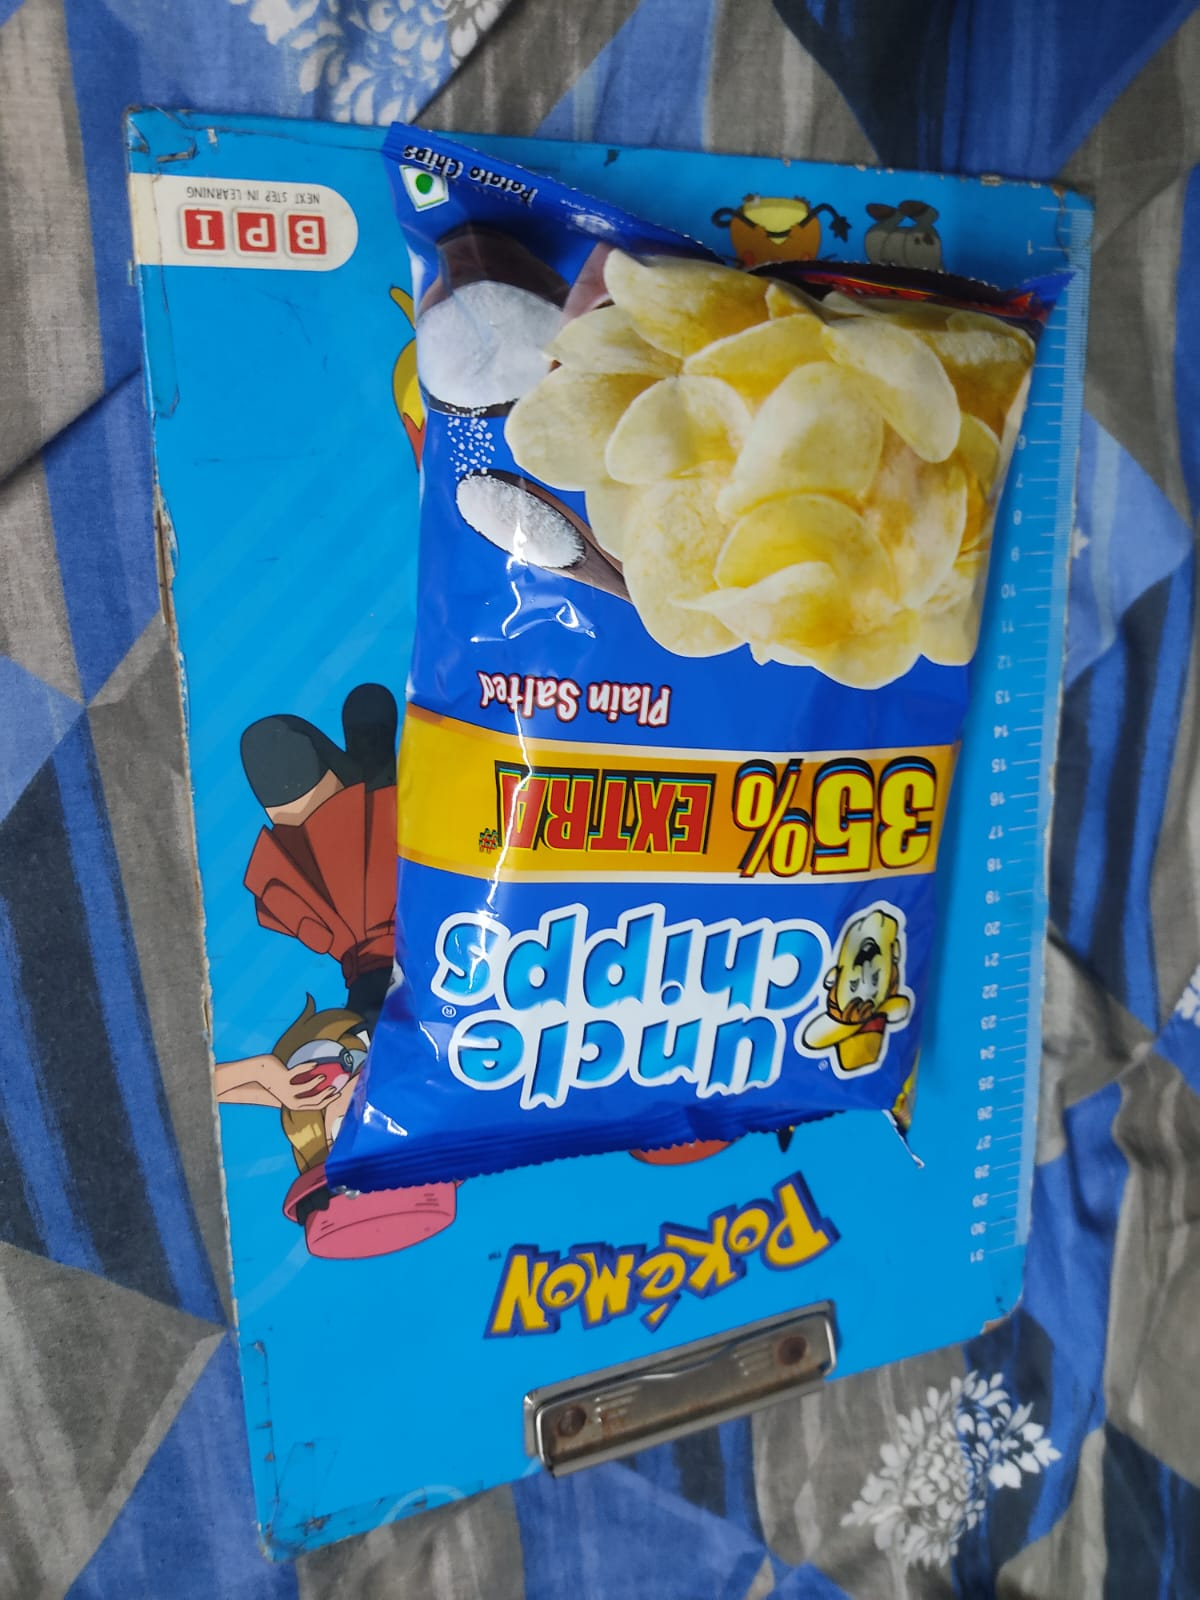020_UncleChips: (383, 289, 1049, 1160)
